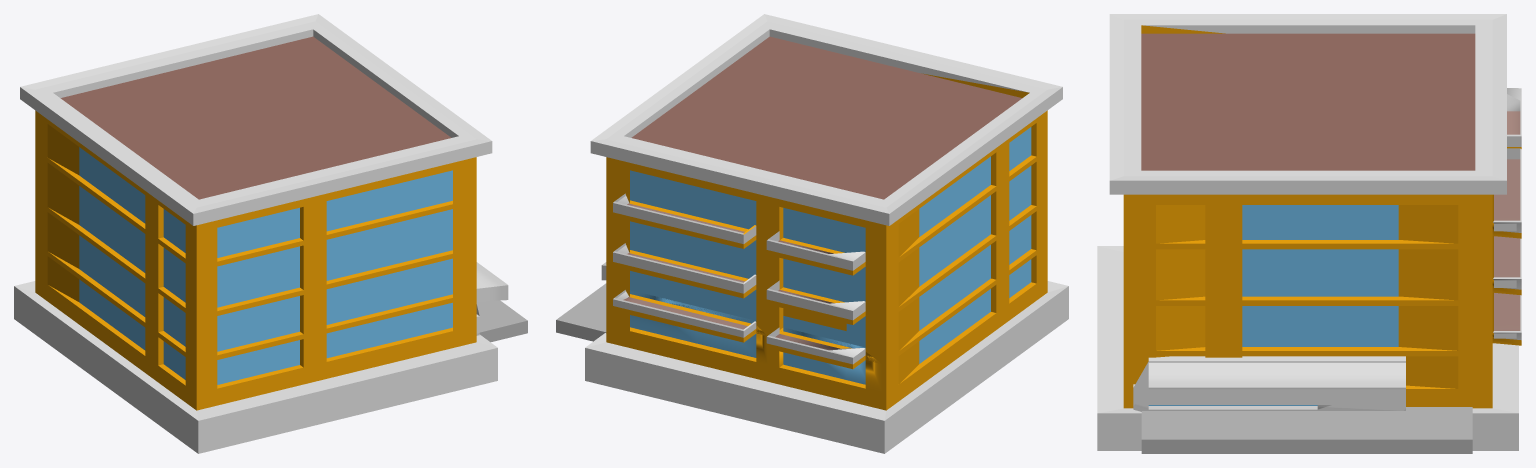
The model's file is OrangeBuilding4x4x3.fbx.
3 renders of one model, left to right at view 1: azimuth 30°, elevation 25°; view 2: azimuth 150°, elevation 25°; view 3: azimuth 270°, elevation 25°, orthographic. The views are drawn at different scales.
Visible parts, largest first — view 1: House; view 2: House; view 3: House.
Part boxes in pixels (x1,y1,x2,y2): House: [14, 14, 527, 453]; House: [556, 14, 1068, 453]; House: [1097, 14, 1521, 453].
Bounding box in the file's own units: 4.6 × 2.97 × 4.23.
Materials: 1 (1 with a texture image).
